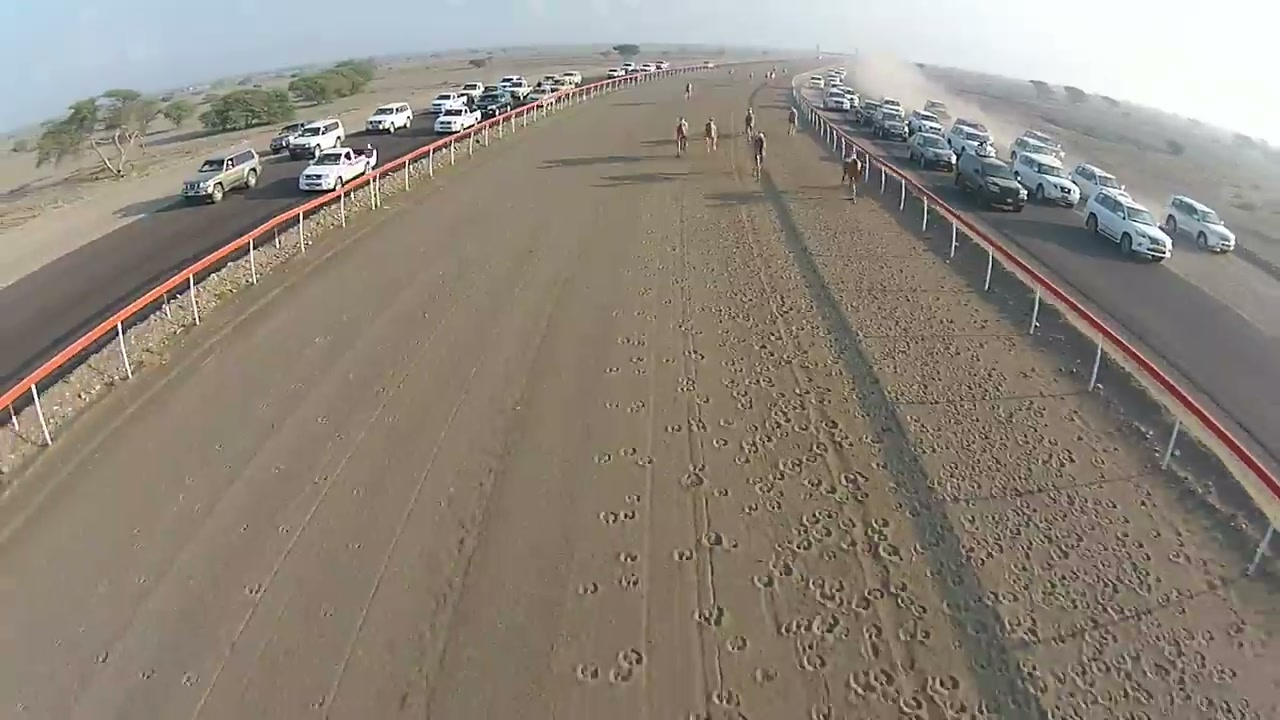animal_foot_print: (878, 664, 928, 719), (850, 665, 898, 695), (807, 612, 851, 640), (610, 648, 644, 684), (809, 575, 846, 608), (846, 669, 877, 703), (925, 674, 961, 699), (617, 550, 639, 590), (899, 618, 932, 644), (935, 698, 974, 719), (748, 474, 783, 496), (777, 617, 815, 637), (802, 508, 837, 528), (702, 530, 738, 549), (695, 605, 726, 627), (739, 436, 773, 455), (865, 517, 891, 541), (599, 508, 636, 524), (839, 471, 869, 490), (799, 650, 826, 671), (712, 687, 740, 707), (834, 532, 860, 553), (875, 542, 902, 562), (862, 636, 883, 661), (617, 648, 644, 667), (610, 665, 635, 684), (777, 457, 803, 475), (809, 439, 830, 461), (681, 470, 705, 489), (575, 663, 599, 682), (752, 667, 776, 685), (726, 635, 748, 653), (809, 703, 833, 719), (618, 573, 640, 590), (702, 531, 724, 547), (801, 475, 823, 491), (1167, 548, 1189, 564), (618, 334, 646, 346), (753, 574, 774, 589), (821, 418, 842, 433), (764, 498, 783, 514), (677, 376, 696, 392), (846, 490, 869, 503), (578, 582, 599, 596), (244, 583, 264, 597), (754, 375, 775, 388), (736, 396, 753, 412), (688, 418, 707, 432), (741, 501, 760, 515), (599, 511, 619, 524), (673, 548, 693, 561), (1090, 454, 1107, 469), (670, 322, 691, 334), (309, 696, 327, 710), (594, 452, 613, 465), (721, 357, 741, 369), (686, 349, 705, 361), (618, 551, 637, 563), (182, 672, 198, 686), (722, 377, 739, 390), (627, 401, 646, 412), (620, 509, 637, 521), (694, 392, 711, 404), (635, 455, 653, 466), (321, 603, 335, 617), (94, 651, 109, 664), (687, 711, 711, 719), (723, 538, 739, 550), (712, 437, 729, 448), (733, 454, 750, 465), (138, 668, 155, 679), (624, 493, 640, 504), (719, 417, 735, 428), (620, 447, 637, 457), (713, 487, 730, 497), (641, 312, 658, 322), (382, 413, 398, 423), (687, 327, 703, 337), (630, 355, 647, 364), (665, 424, 682, 433), (638, 287, 653, 296), (278, 524, 291, 534), (346, 542, 362, 550), (271, 464, 285, 473), (351, 487, 363, 497), (605, 366, 619, 374), (634, 366, 646, 375), (316, 415, 328, 424), (605, 401, 620, 408), (633, 309, 646, 317), (622, 267, 632, 275), (610, 311, 620, 318), (663, 299, 672, 304), (134, 544, 139, 548)
